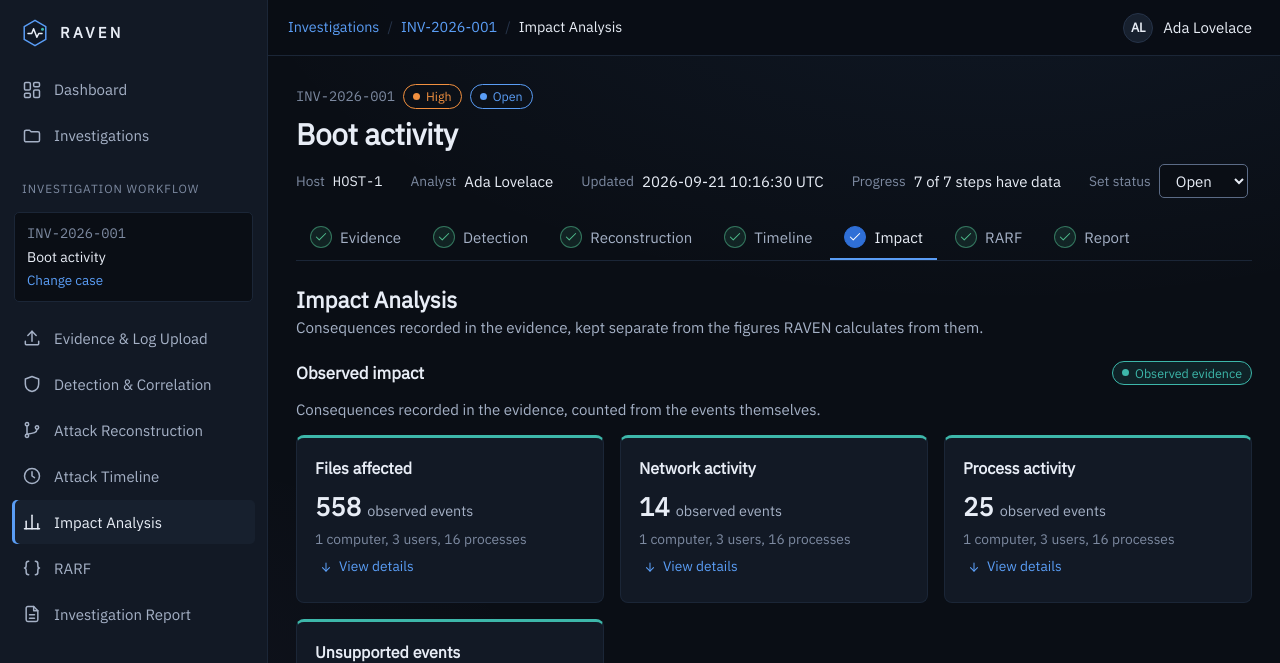
Test: Impact: observed impact › starts each category collapsed and shows its detail on request
Expected: the heading "Impact Analysis" is shown, [296,285,457,314]
Expected: the heading "Observed impact" is shown, [296,360,424,386]
Click the button "View details" below "558". click: (366, 567)
box: [315,550,418,584]
(page scrolled)
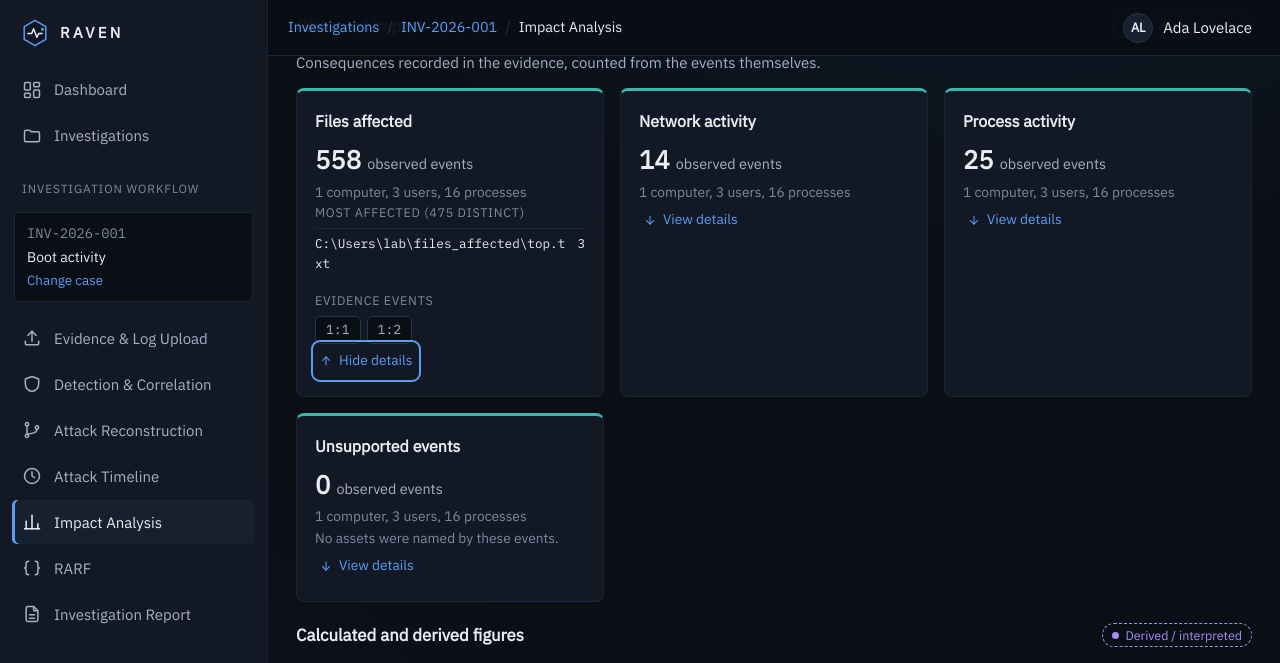
Result: the button "Hide details" is expanded at [315,344,416,378]
